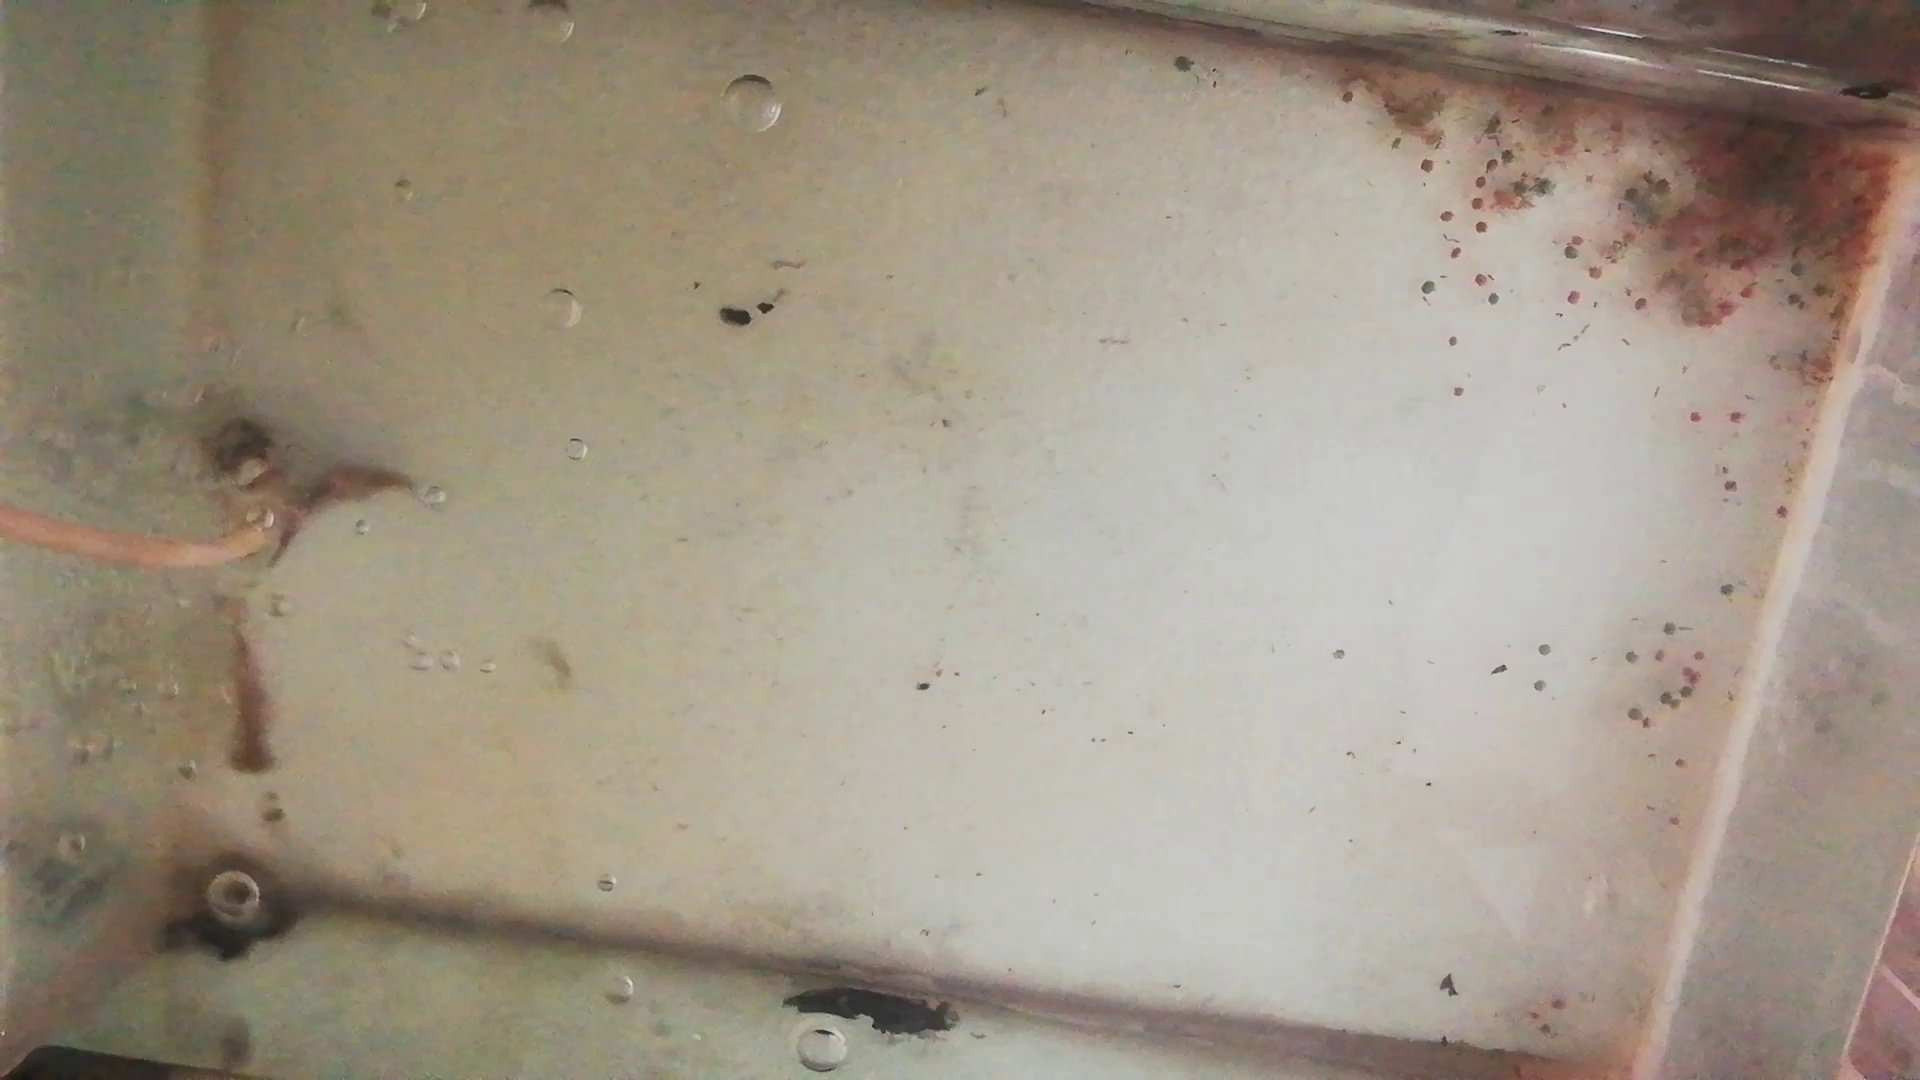fish: (270, 460, 421, 556), (222, 593, 284, 782)
